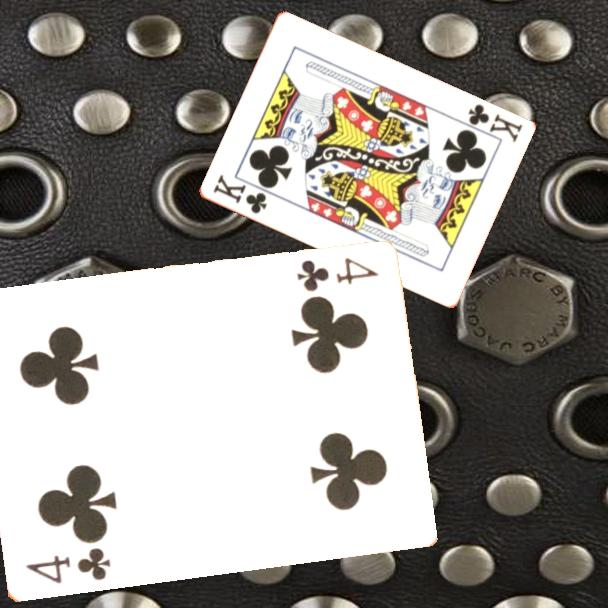c04: (22, 545, 113, 588), (293, 255, 382, 294)
c13: (464, 100, 525, 146), (209, 171, 269, 217)
